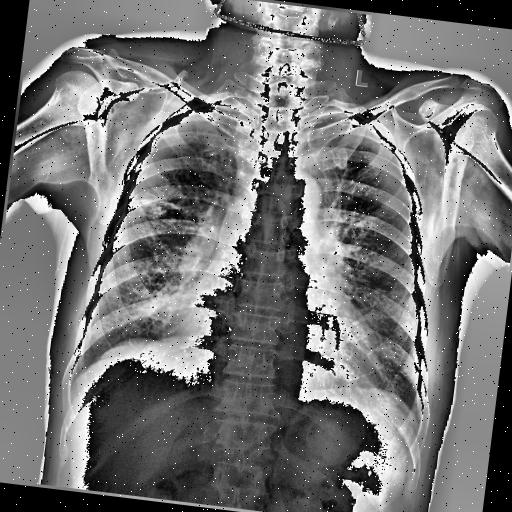0- Aortic enlargement: (268, 164, 325, 226)
11- Pleural thickening: (304, 105, 372, 131), (312, 107, 376, 131), (306, 102, 358, 126), (192, 99, 246, 119), (190, 100, 250, 118), (194, 100, 242, 116)
13- Pulmonary fibrosis: (131, 189, 191, 220), (130, 194, 184, 212)
3- Cardiomegaly: (176, 268, 389, 390), (176, 289, 384, 392), (179, 290, 380, 384)
6- Infiltration: (128, 284, 186, 324), (132, 190, 193, 222)
7- Lung Opacity: (98, 324, 156, 368)
8- Nodule-Mass: (404, 321, 416, 334)
9- Other lesion: (98, 324, 156, 368), (404, 321, 416, 334)
